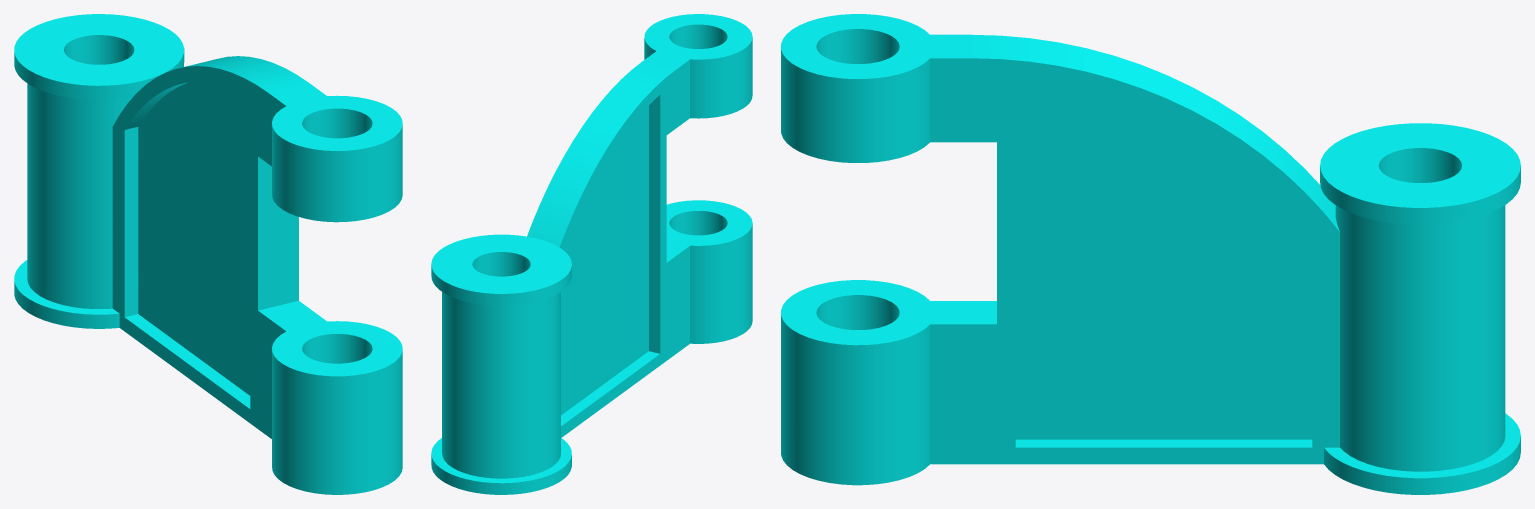
3 views of the same model, side by side, from view 1: azimuth 30°, elevation 25°; view 2: azimuth 150°, elevation 25°; view 3: azimuth 270°, elevation 25° (orthographic). The views are drawn at different scales.
Parts seen in each view (by area): view 1: S2-2; view 2: S2-2; view 3: S2-2.
Part boxes in pixels (x1,y1,x2,y2): S2-2: [14, 14, 402, 494]; S2-2: [431, 14, 752, 494]; S2-2: [781, 14, 1520, 494].
Bounding box in the file's own units: 0.0649 × 0.145 × 0.2394.
